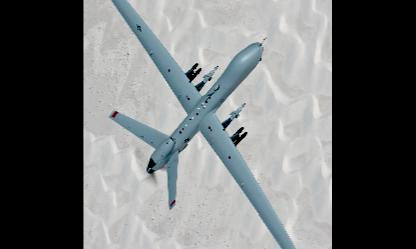MQ9: (92, 0, 307, 248)
